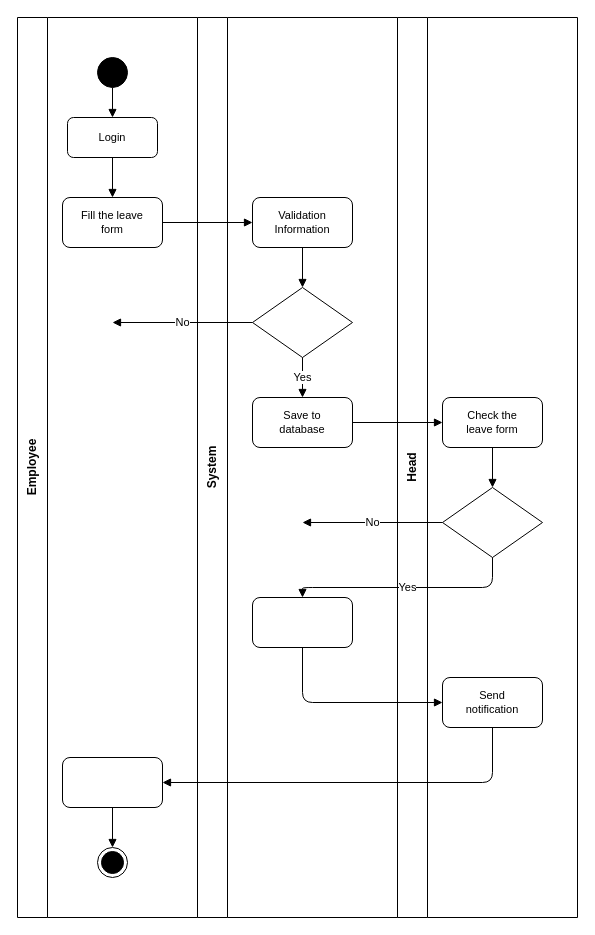
This 595x935 diagram has some shape labels left out. The centre of each missing label's shape, as x and y in pixels:
Approve the form ?: (x=492, y=522)
Calculate Quota: (x=302, y=622)
Information correct ?: (x=302, y=322)
Receive notification: (x=112, y=782)
